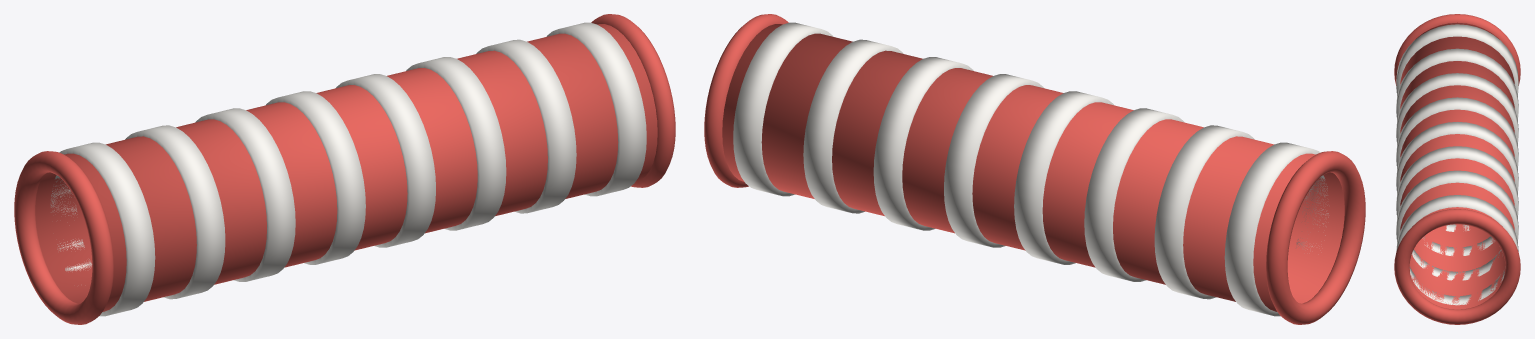
Rendered from Agility_Tunnel_Open.fbx.
3 views of the same model, side by side, from view 1: azimuth 30°, elevation 25°; view 2: azimuth 150°, elevation 25°; view 3: azimuth 270°, elevation 25° (orthographic). The views are drawn at different scales.
Visible parts, largest first — view 1: Tunnel; view 2: Tunnel; view 3: Tunnel.
Part boxes in pixels (box(x1,y1,x2,y2)): Tunnel: box(14, 14, 675, 324); Tunnel: box(704, 14, 1365, 324); Tunnel: box(1394, 14, 1520, 324).
Size of the model in its own units: 310 by 82.3 by 82.3.
